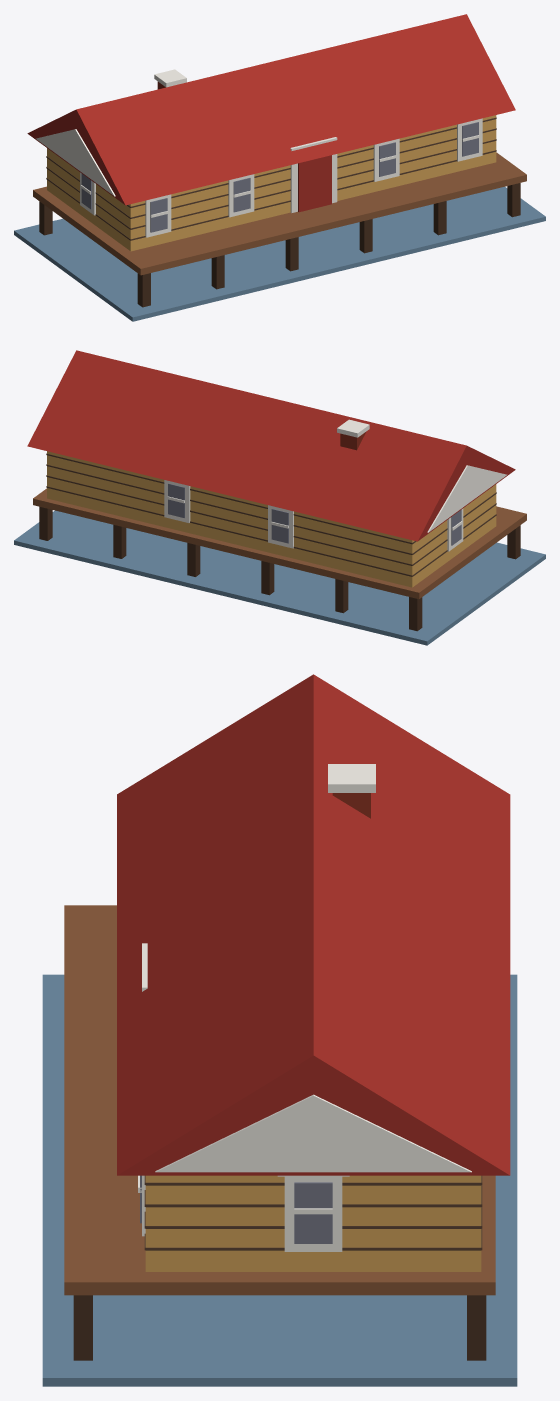
File: house-2x1-1f-palafito-a.glb
3 views of the same model, one above another, from view 1: azimuth 30°, elevation 25°; view 2: azimuth 150°, elevation 25°; view 3: azimuth 270°, elevation 25° (orthographic). The views are drawn at different scales.
Visible parts, largest first — view 1: house-2x1-1f-palafito-a; view 2: house-2x1-1f-palafito-a; view 3: house-2x1-1f-palafito-a.
Boxes of the visible parts, x1,y1,x2,y2 form: house-2x1-1f-palafito-a: [14, 14, 545, 321]; house-2x1-1f-palafito-a: [14, 350, 545, 645]; house-2x1-1f-palafito-a: [42, 674, 517, 1386].
Bounding box in the file's own units: 1.99 × 0.74 × 0.99.
1 material, 1 textured.
